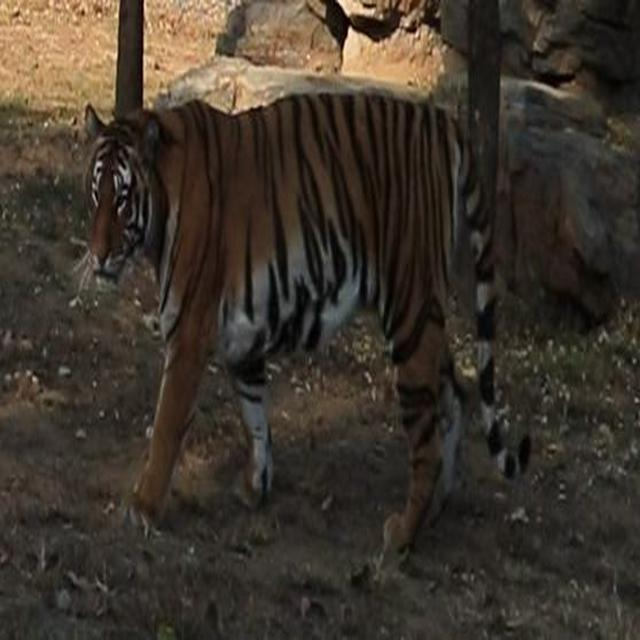tiger: (63, 76, 546, 599)
